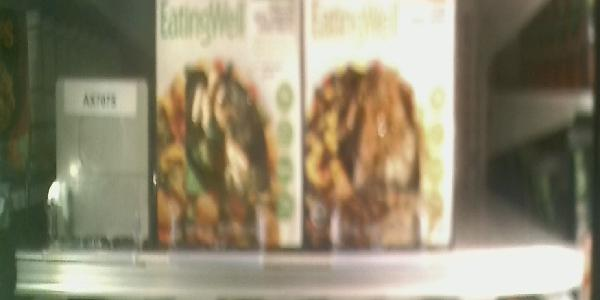pizza1: (302, 1, 457, 252), (153, 1, 302, 254)
